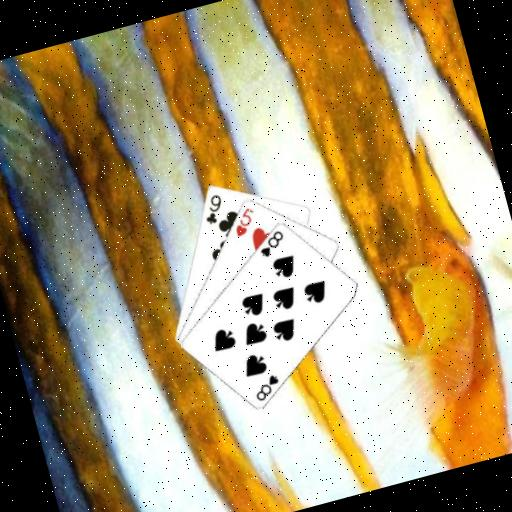5H: (227, 203, 261, 239)
8S: (247, 370, 284, 404), (253, 226, 289, 260)
9C: (196, 189, 228, 227)
